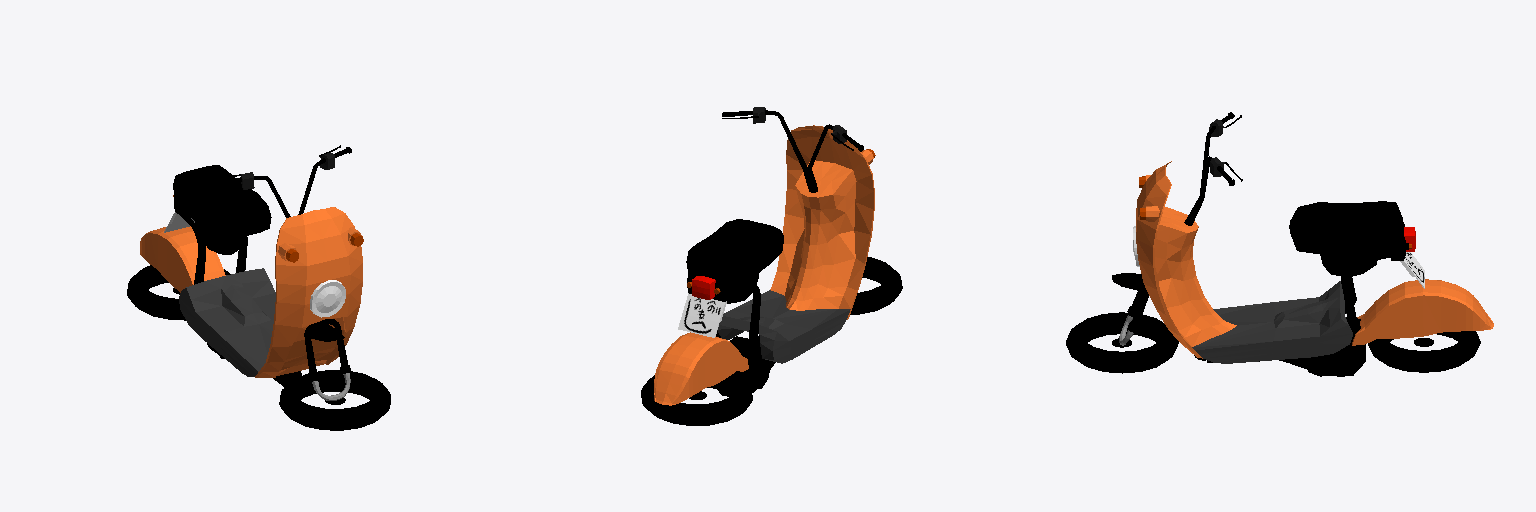
3 renders of one model, left to right at view 1: azimuth 30°, elevation 25°; view 2: azimuth 150°, elevation 25°; view 3: azimuth 270°, elevation 25°, orthographic.
Visible parts, largest first — view 1: 前輪_円柱.005; view 2: 前輪_円柱.005; view 3: 前輪_円柱.005.
Part boxes in pixels (left/top/right/bottom): 前輪_円柱.005: left=127, top=145, right=390, bottom=430; 前輪_円柱.005: left=641, top=107, right=902, bottom=425; 前輪_円柱.005: left=1066, top=112, right=1493, bottom=376.
Size of the model in its own units: 0.6237 by 0.9832 by 1.65.
1 materials, 1 textured.